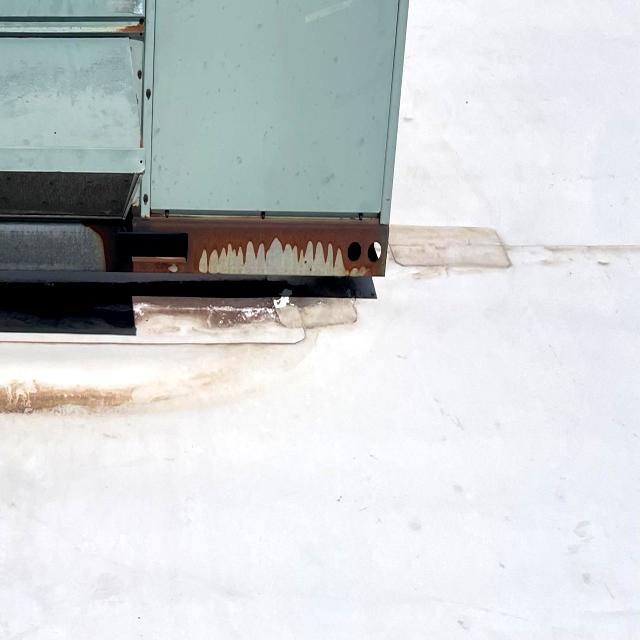RTU: (0, 0, 431, 310)
